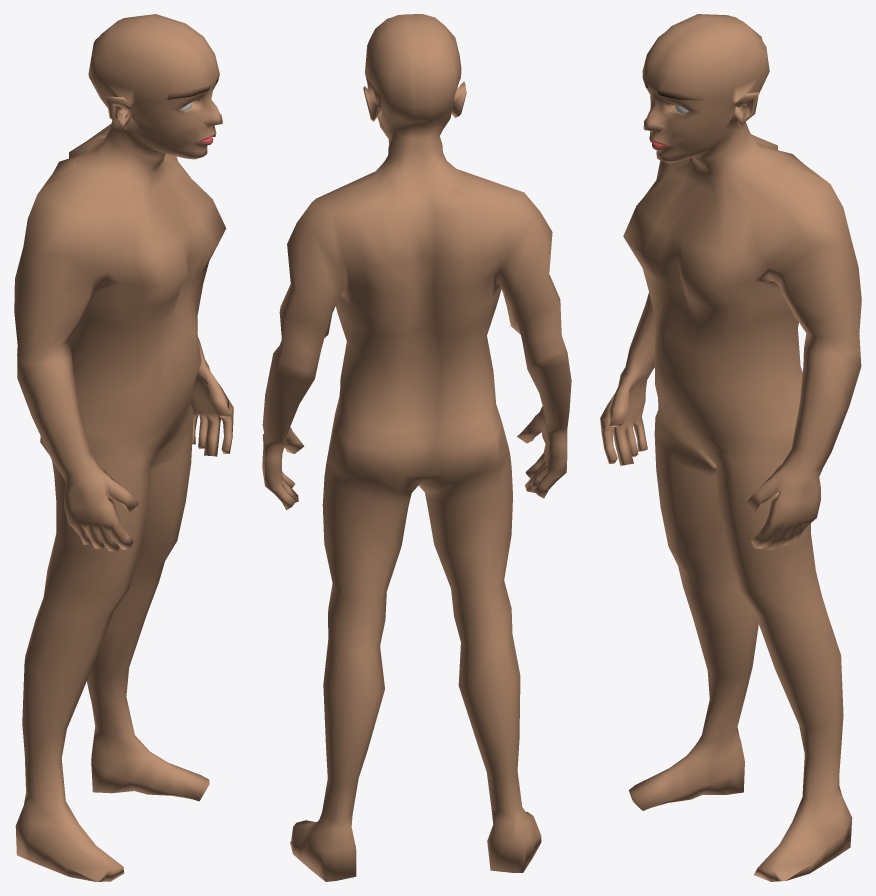
The model's file is boneco15.glb.
The picture shows the model from 3 angles, left to right: view 1: azimuth 30°, elevation 25°; view 2: azimuth 150°, elevation 25°; view 3: azimuth 270°, elevation 25°; orthographic projection.
Visible parts, largest first — view 1: Plane.016; view 2: Plane.016; view 3: Plane.016.
Boxes of the visible parts, left/top/right/bottom form: Plane.016: left=14, top=14, right=233, bottom=881; Plane.016: left=262, top=14, right=571, bottom=881; Plane.016: left=600, top=14, right=861, bottom=881.
Bounding box in the file's own units: 1.16 × 3.47 × 1.
